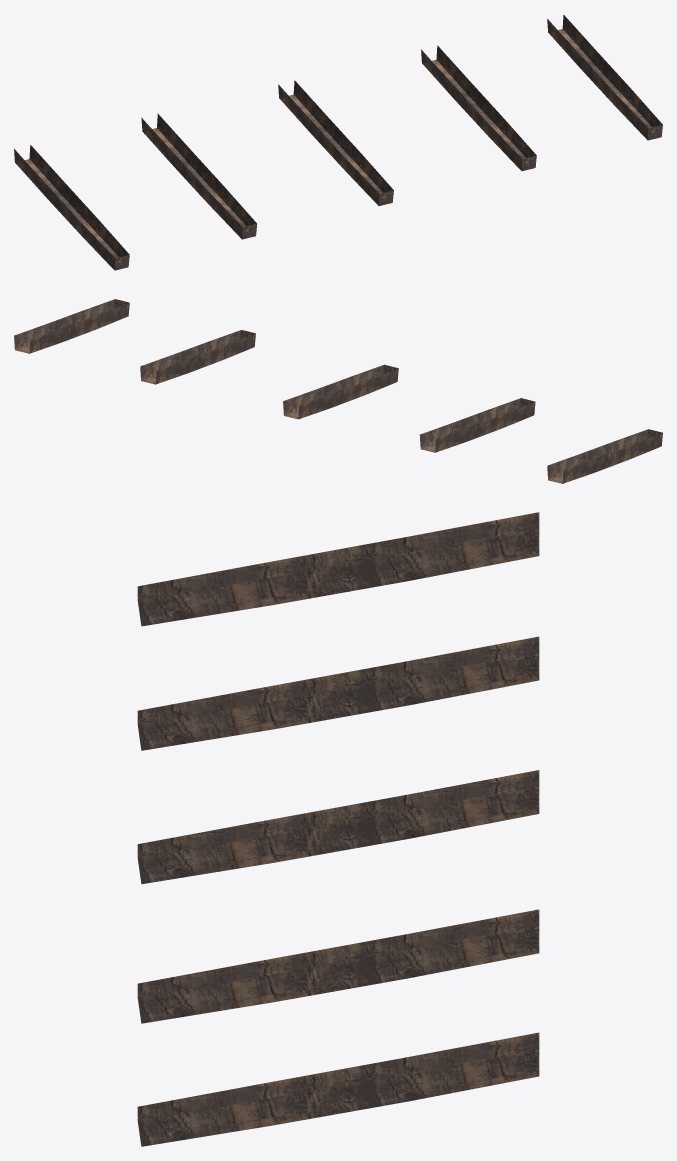
Rendered from porchTimbersSupport_01_LOD1.FBX.
3 renders of one model, top to bottom at view 1: azimuth 30°, elevation 25°; view 2: azimuth 150°, elevation 25°; view 3: azimuth 270°, elevation 25°, orthographic. The views are drawn at different scales.
Visible parts, largest first — view 1: porchTimbersSupport_01_LOD1; view 2: porchTimbersSupport_01_LOD1; view 3: porchTimbersSupport_01_LOD1.
Part boxes in pixels (x1,y1,x2,y2): porchTimbersSupport_01_LOD1: [14, 15, 662, 270]; porchTimbersSupport_01_LOD1: [14, 299, 662, 483]; porchTimbersSupport_01_LOD1: [137, 512, 539, 1146].
Size of the model in its own units: 32.77 by 2.84 by 10.37.
1 material, 1 textured.
